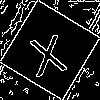X: (25, 25, 69, 77)
